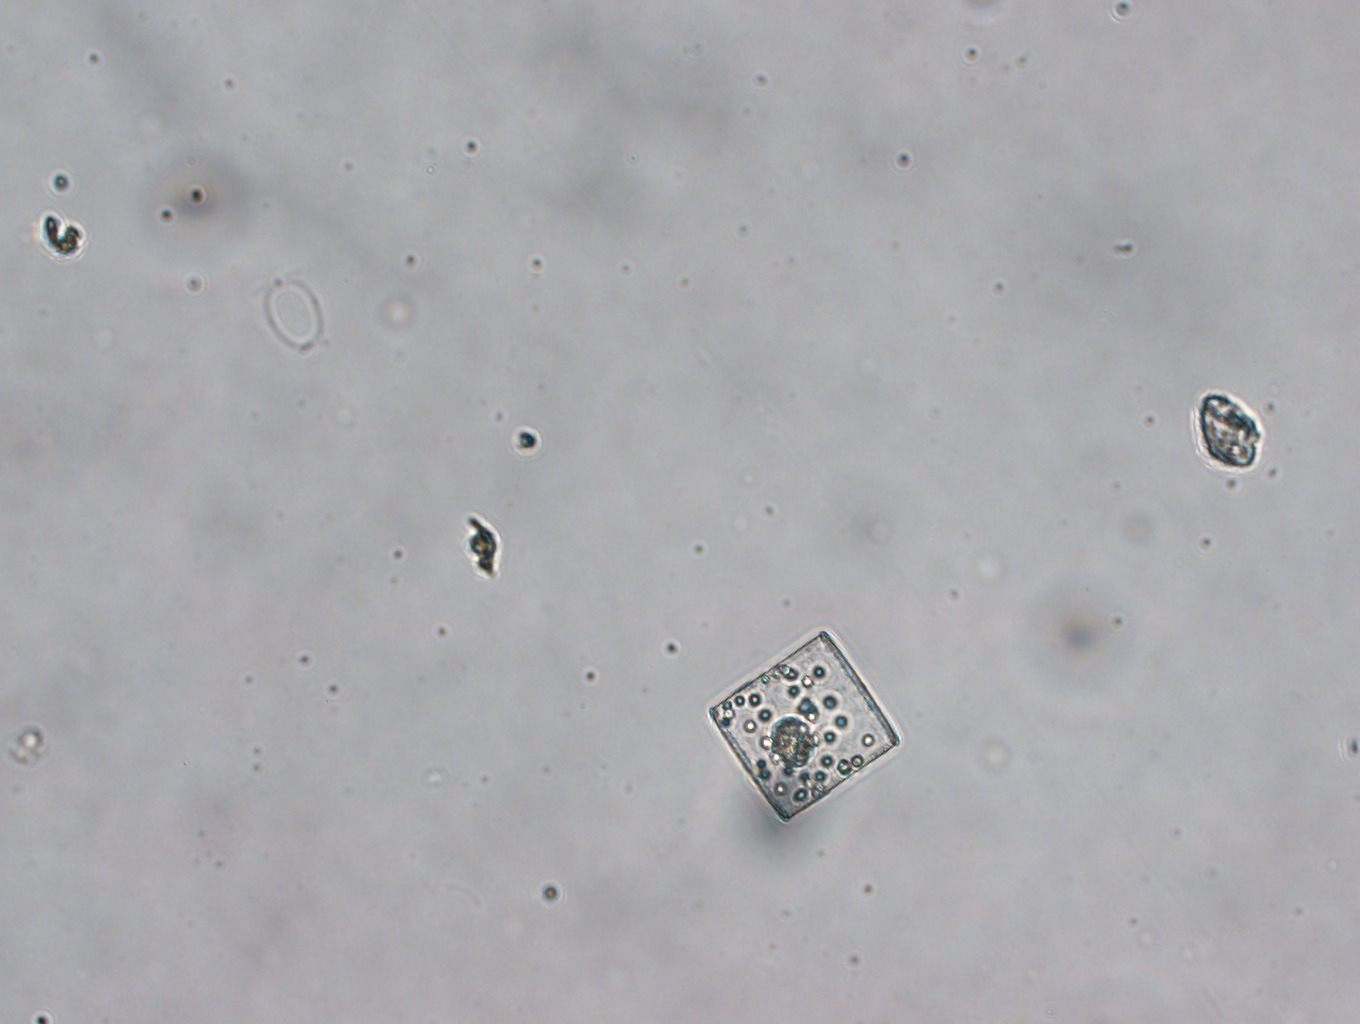guinardia flaccida: (707, 630, 900, 825)
